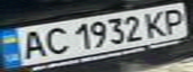1: (69, 20, 93, 51)
2: (121, 12, 148, 43)
3: (106, 16, 127, 46)
9: (87, 18, 109, 48)
A: (15, 28, 51, 61)
C: (39, 25, 72, 56)
K: (139, 7, 172, 38)
P: (157, 6, 193, 35)
